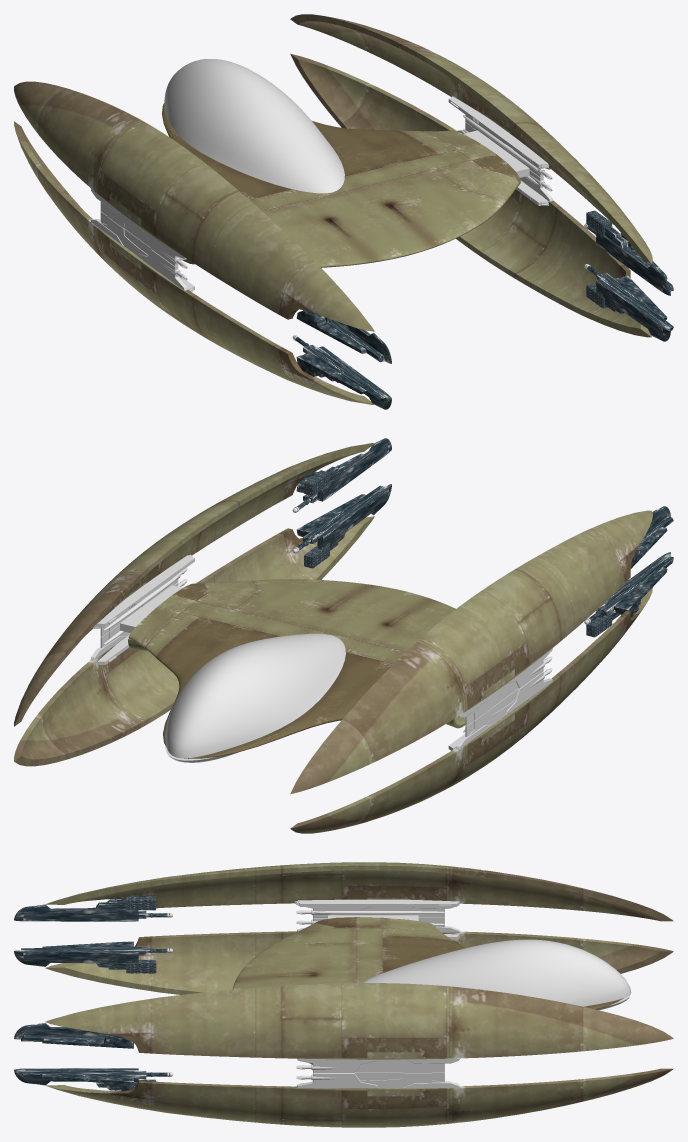
3 renders of one model, top to bottom at view 1: azimuth 30°, elevation 25°; view 2: azimuth 150°, elevation 25°; view 3: azimuth 270°, elevation 25°, orthographic. The views are drawn at different scales.
Parts seen in each view (by area): view 1: Line01, hull, Line75, head01, Line41, Line58, Line70, Line36, Line40, Line51, Line05, Line54 (+3 smaller); view 2: Line01, hull, Line75, head01, Line58, Line41, Line70, Line36, Line40, Line51, Box03, Line54 (+1 smaller); view 3: Line41, Line75, Line01, Line58, hull, head01, Line53, Line02, Line22, Line59, Line68, Line70 (+11 smaller).
Part boxes in pixels (x1,y1,x2,y2): Line01: (14,81,374,331); hull: (162,103,520,267); Line75: (290,53,651,337); head01: (164,59,344,193); Line41: (290,14,652,264); Line58: (14,121,373,404); Line70: (596,278,670,341); Line36: (596,231,670,295); Line40: (448,96,548,167); Line51: (296,353,366,394); Line05: (296,310,366,353); Line54: (303,344,385,401); Line01: (290,510,652,794); hull: (128,579,455,758); Line75: (14,516,374,766); head01: (165,633,345,758); Line58: (290,587,652,833); Line41: (14,443,374,726); Line70: (317,484,391,549); Line36: (317,438,391,501); Line40: (97,555,194,627); Line51: (614,567,667,617); Box03: (120,585,182,632); Line54: (597,556,673,615); Line41: (45,983,673,1059); Line75: (45,1068,673,1127); Line01: (45,862,673,921); Line58: (45,931,673,994); hull: (232,917,623,1064); head01: (362,939,631,1006); Line53: (14,950,138,966); Line02: (14,904,138,921); Line22: (297,899,459,906); Line59: (296,1073,378,1088); Line68: (42,1074,133,1090); Line70: (14,1068,138,1085).
Size of the model in its own units: 460 by 191 by 808.
